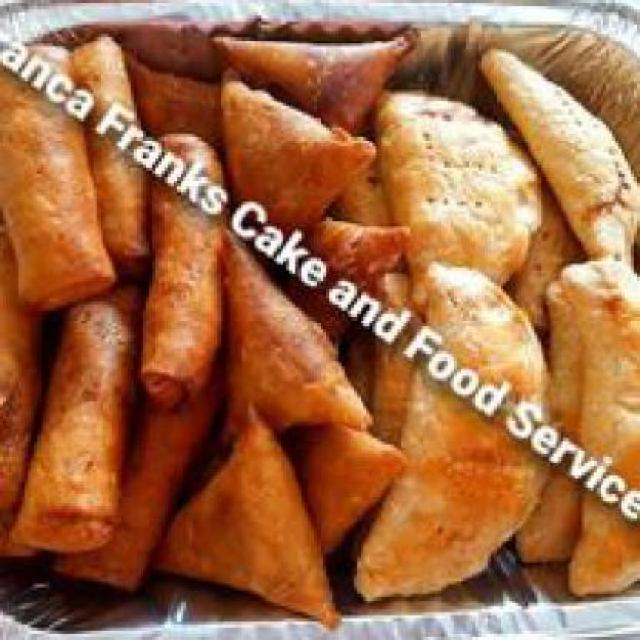gyoza: (385, 55, 637, 588)
samosa: (202, 28, 380, 594)
